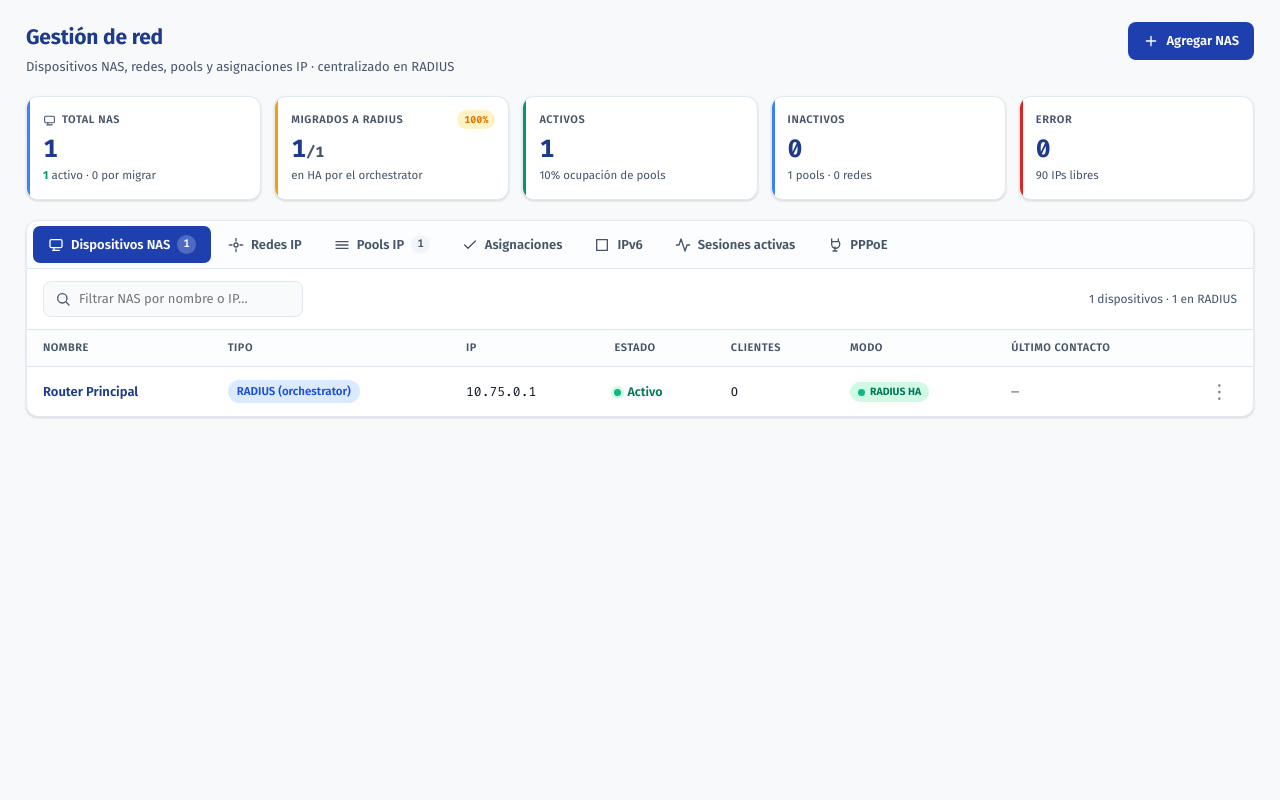
Test: GestionRedPage — Tab Pools IP › P-1: filtros FE › empty state cuando filtros dejan 0 resultados
Click the button "Pools IP 1" at (382, 245), box [319,226,445,263]
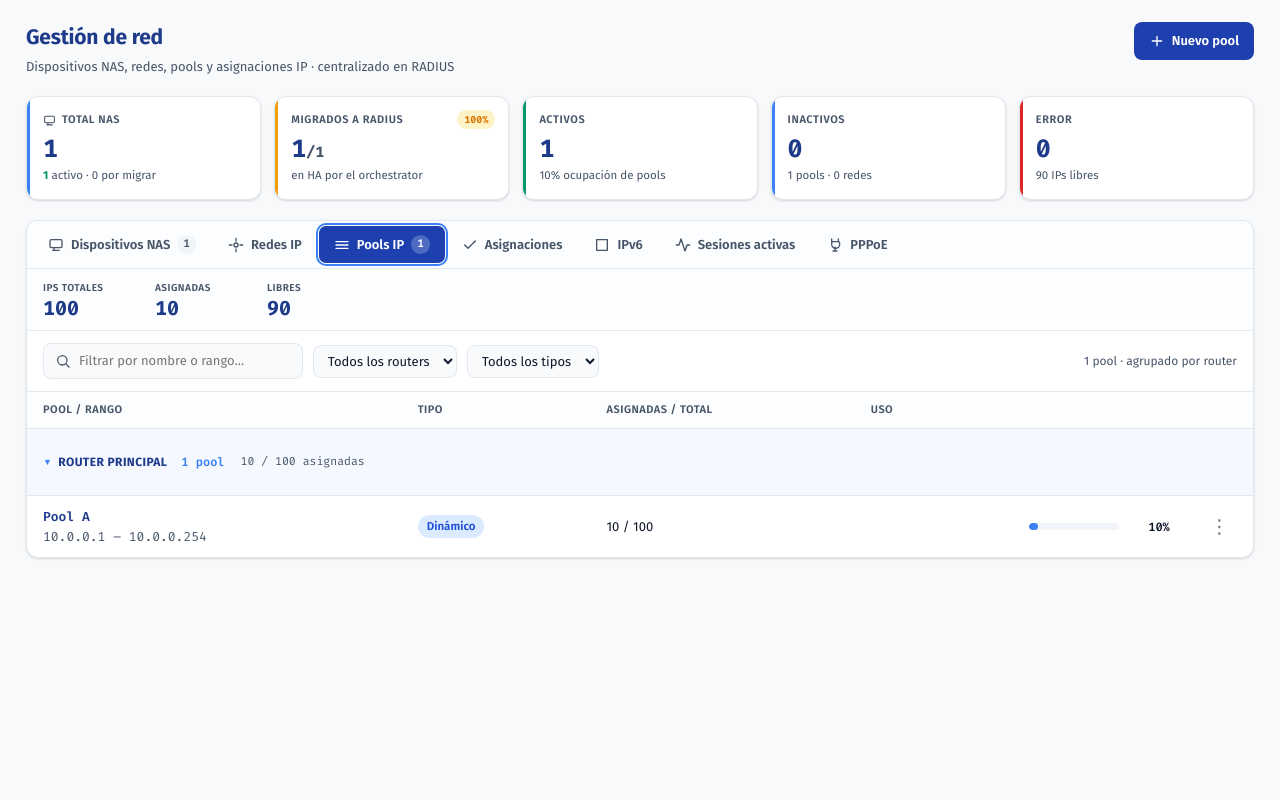
Select "Estático" in the dropdown named "Filtrar por tipo" at (533, 361), box [467,344,599,378]
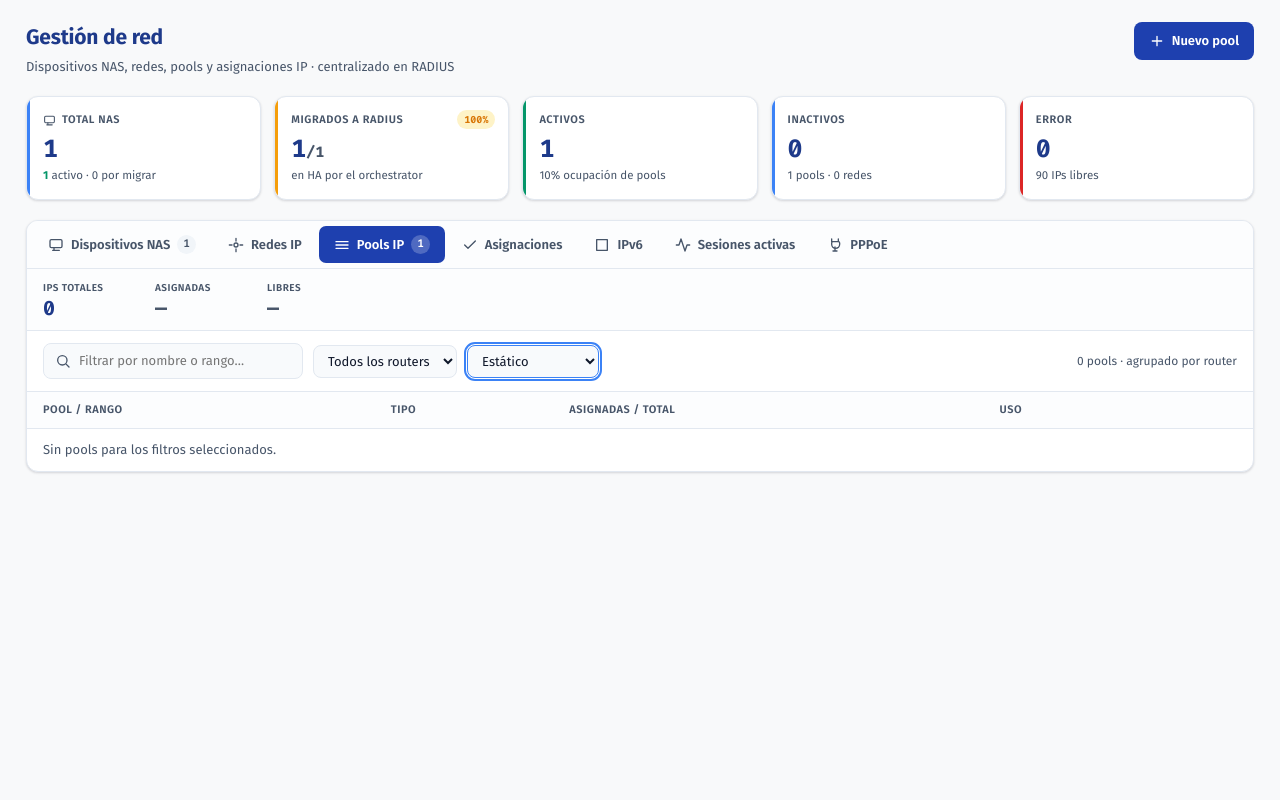
Expected: the text "Sin pools para los filtros seleccionados." is shown, [27,429,1253,471]
